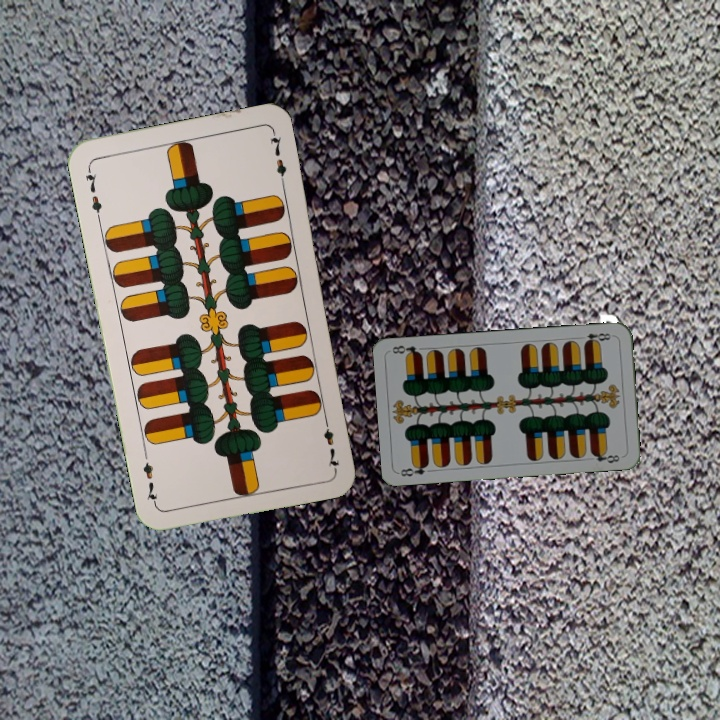E7: (81, 163, 105, 222), (319, 412, 341, 471)
E8: (396, 459, 437, 479), (580, 329, 616, 347)
